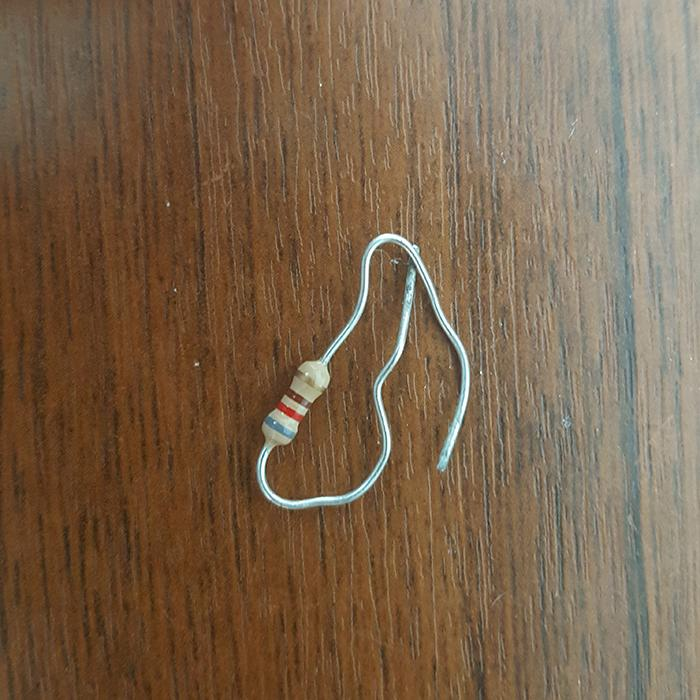resistor: (261, 359, 329, 448)
